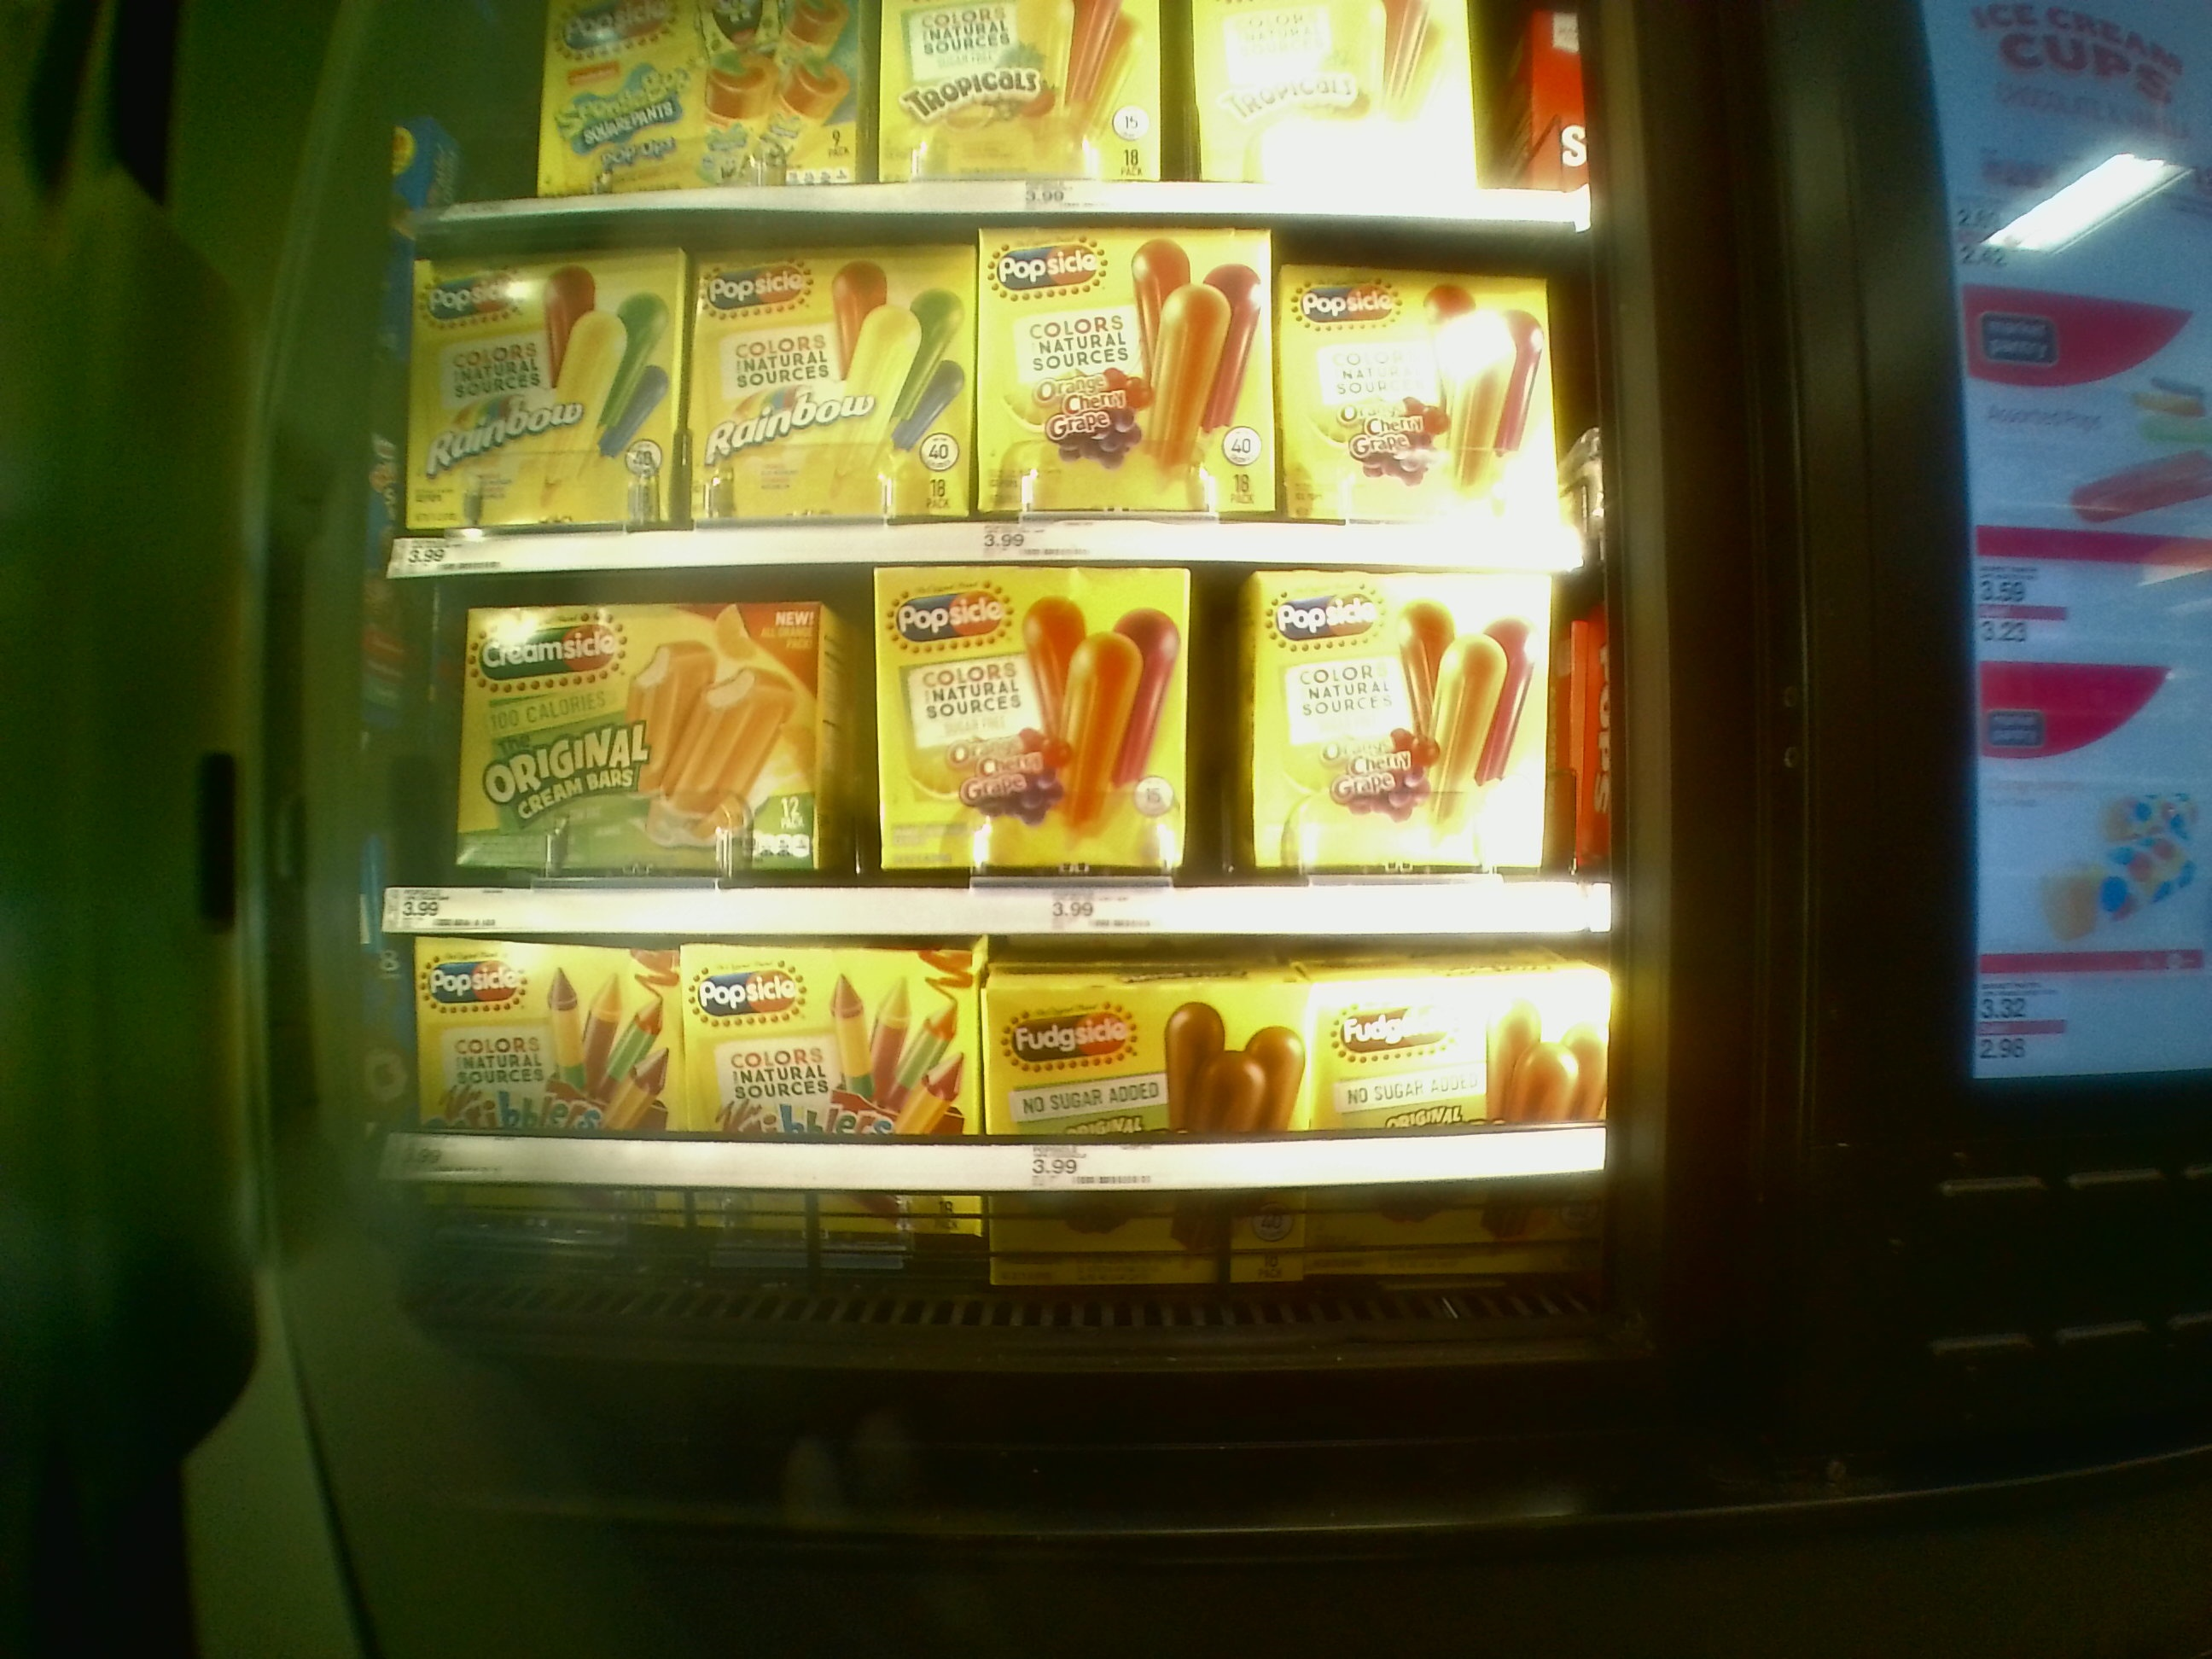shelf: (388, 573, 1615, 934), (388, 214, 1618, 572), (381, 934, 1606, 1279)
